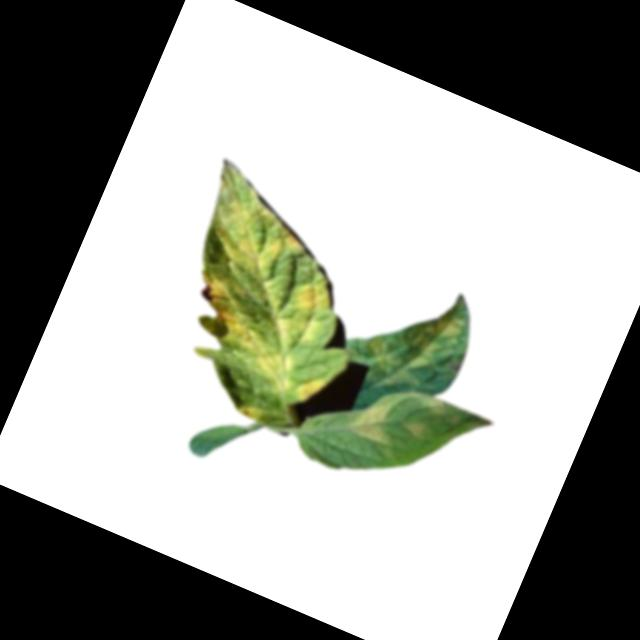Leaf_Mold: (132, 158, 394, 442), (353, 276, 475, 409), (344, 384, 403, 447), (397, 413, 434, 444)
